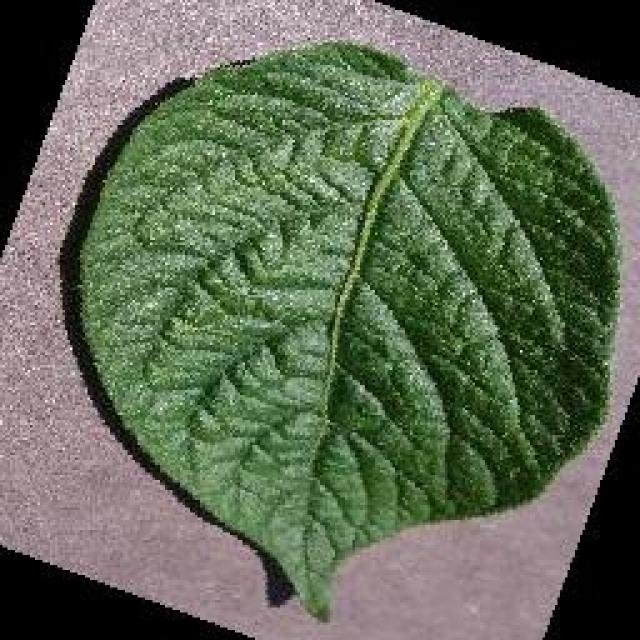Potato___healthy: (76, 39, 622, 627)
